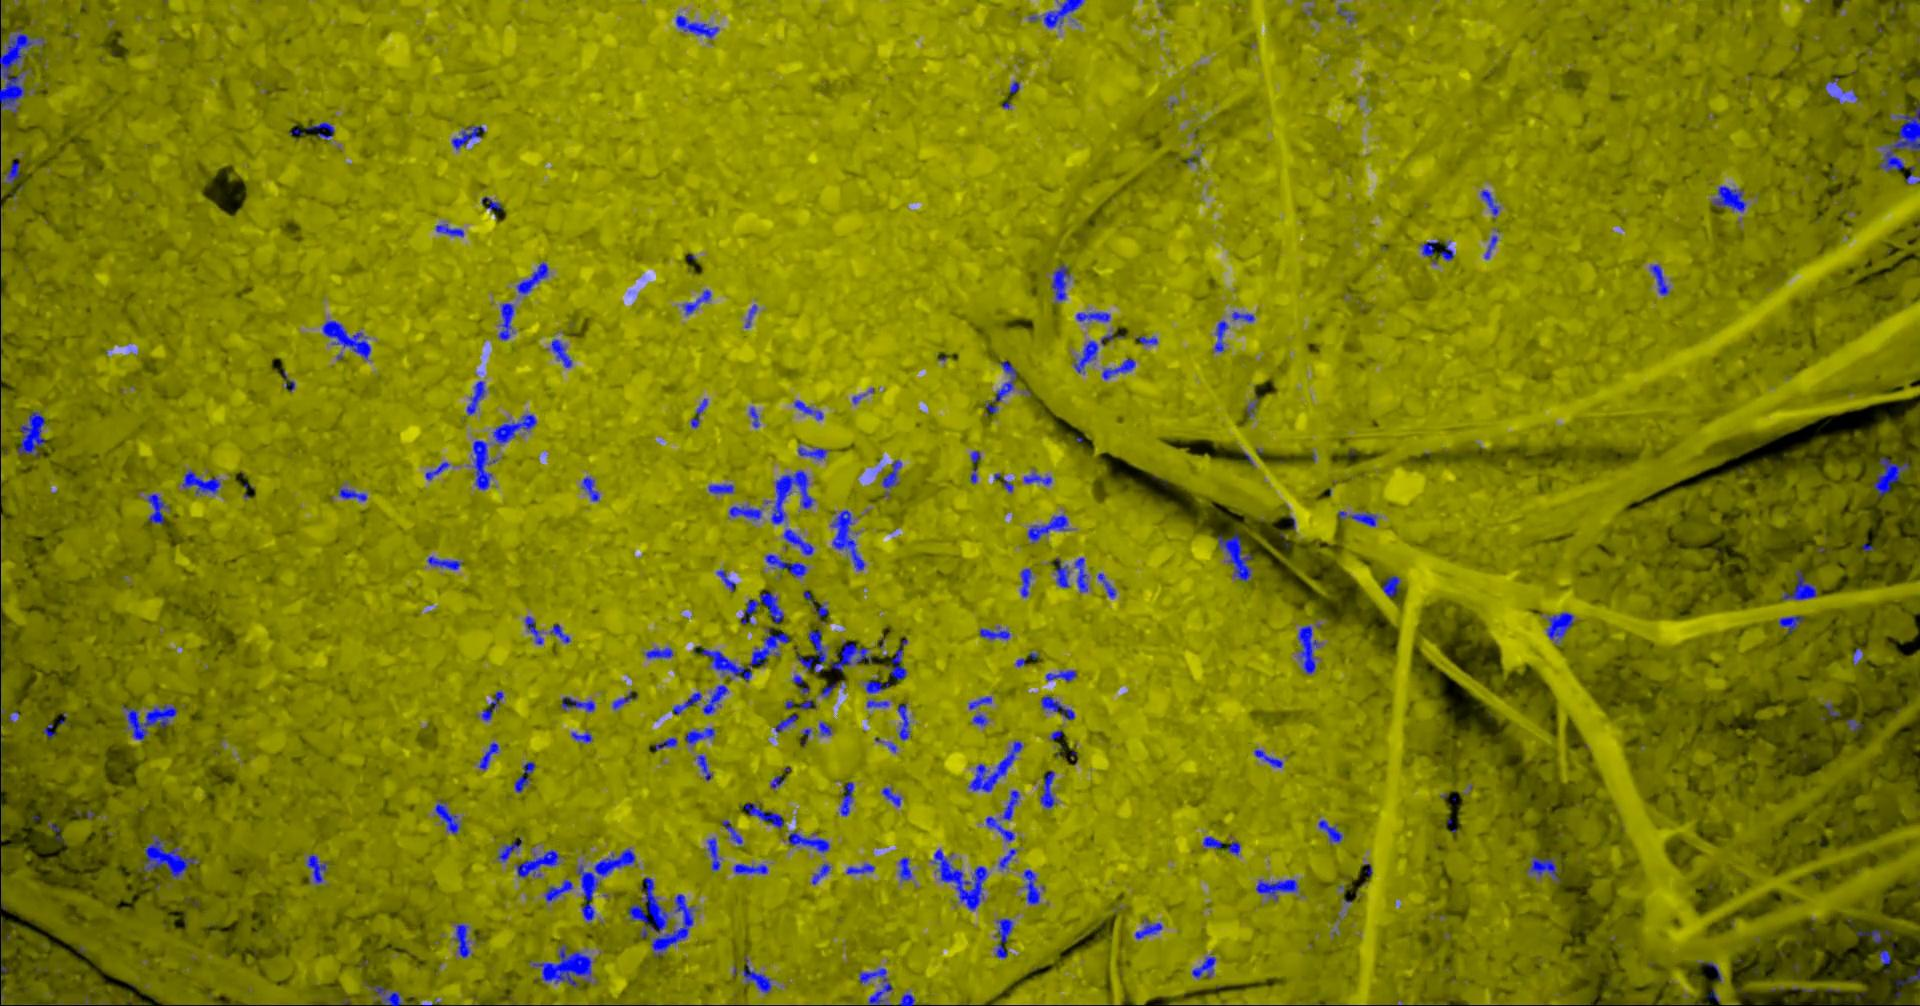ant: (968, 741, 1022, 791), (770, 470, 814, 525), (121, 702, 177, 741), (830, 509, 863, 570), (1073, 333, 1123, 372), (321, 320, 370, 359), (985, 359, 1016, 415), (1217, 532, 1251, 580), (1029, 0, 1084, 28), (1872, 457, 1909, 497), (740, 592, 783, 624), (491, 413, 536, 443), (470, 439, 497, 489), (17, 410, 44, 456), (516, 848, 561, 876), (858, 967, 891, 1005), (1026, 514, 1070, 542), (1297, 624, 1319, 674), (742, 954, 771, 993), (516, 260, 549, 295), (1782, 569, 1817, 600), (744, 801, 783, 828), (182, 469, 220, 495), (676, 14, 717, 38), (764, 554, 806, 577), (787, 829, 829, 852), (1255, 879, 1298, 901), (1710, 185, 1746, 211), (434, 799, 460, 835), (885, 639, 907, 680), (1040, 694, 1074, 719), (1526, 856, 1561, 882), (1545, 612, 1573, 643), (1823, 76, 1857, 102), (477, 690, 503, 721), (451, 124, 484, 149), (783, 528, 813, 555), (1050, 263, 1069, 304), (702, 683, 728, 714), (1022, 869, 1044, 904), (145, 493, 169, 525), (993, 918, 1012, 958), (881, 459, 902, 495), (366, 984, 403, 1005), (985, 815, 1015, 841), (305, 854, 328, 885), (682, 290, 710, 315), (546, 339, 571, 367), (1101, 358, 1135, 379), (513, 761, 535, 793), (0, 161, 19, 197), (497, 302, 514, 340), (1039, 770, 1057, 808), (672, 691, 701, 714), (543, 879, 571, 902), (792, 399, 823, 419), (1337, 511, 1378, 526), (497, 838, 522, 862), (466, 380, 484, 414), (453, 923, 471, 958), (1650, 264, 1669, 295), (1317, 819, 1342, 842), (721, 819, 743, 846), (477, 742, 498, 770), (1134, 918, 1162, 939), (560, 696, 594, 713), (305, 121, 334, 140), (1479, 189, 1498, 218), (524, 615, 543, 644), (690, 398, 707, 428), (1001, 790, 1018, 821), (897, 702, 910, 741), (1255, 748, 1283, 767), (728, 504, 762, 520), (1191, 956, 1215, 978), (684, 727, 714, 744), (1777, 615, 1803, 634), (1697, 962, 1721, 982), (424, 461, 450, 480), (612, 690, 637, 709), (1053, 558, 1069, 587), (1073, 558, 1087, 592), (839, 781, 853, 815), (1213, 320, 1228, 351), (706, 837, 720, 870), (1857, 929, 1890, 942), (580, 476, 599, 500), (425, 556, 461, 569), (1097, 572, 1115, 597), (695, 754, 712, 780), (978, 626, 1010, 640), (549, 622, 570, 643), (775, 713, 797, 732), (1420, 240, 1437, 264), (1895, 967, 1919, 984), (863, 677, 889, 694), (998, 848, 1018, 869), (716, 569, 735, 591), (811, 862, 830, 884), (731, 862, 767, 874), (797, 446, 829, 459), (338, 486, 366, 500), (993, 473, 1013, 492), (881, 788, 902, 807), (1382, 575, 1399, 597), (791, 674, 809, 695), (436, 224, 463, 236), (1023, 473, 1051, 485), (1076, 311, 1110, 321), (1045, 669, 1076, 681), (1020, 568, 1031, 597), (1484, 234, 1497, 259), (645, 647, 673, 658), (846, 862, 874, 874), (1437, 240, 1453, 260), (1244, 392, 1257, 417), (898, 856, 910, 880), (1337, 5, 1354, 23), (744, 304, 757, 326), (968, 696, 990, 709), (654, 737, 677, 749), (481, 196, 502, 210), (47, 821, 61, 841), (1230, 311, 1255, 323), (1845, 718, 1863, 733), (1905, 165, 1919, 184), (707, 483, 733, 493), (570, 730, 592, 742), (1203, 836, 1222, 848), (1137, 334, 1157, 345), (748, 406, 759, 427), (42, 723, 58, 737), (898, 992, 916, 1005), (820, 683, 836, 697), (971, 713, 987, 727), (813, 602, 827, 616), (770, 775, 785, 788), (866, 699, 888, 708), (799, 699, 817, 709), (818, 721, 830, 735), (1227, 841, 1239, 855), (1878, 949, 1890, 964)
